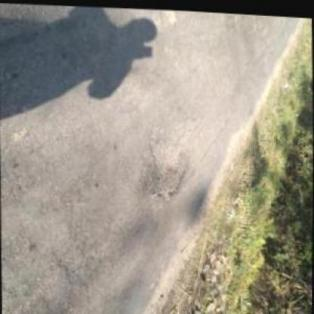Hueco: (146, 137, 188, 201)
